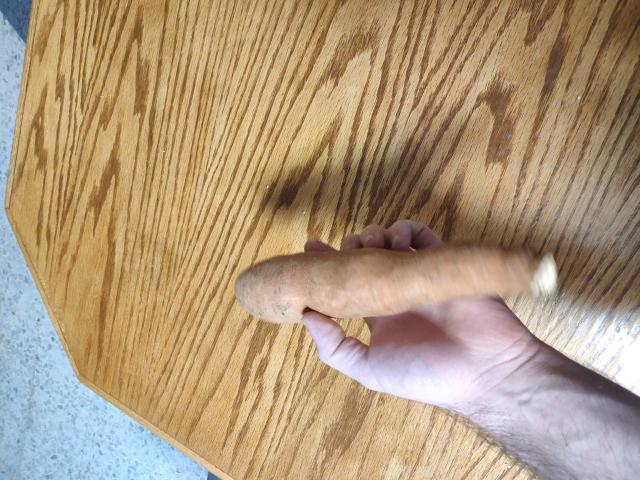sweet_potato: (233, 224, 531, 306)
